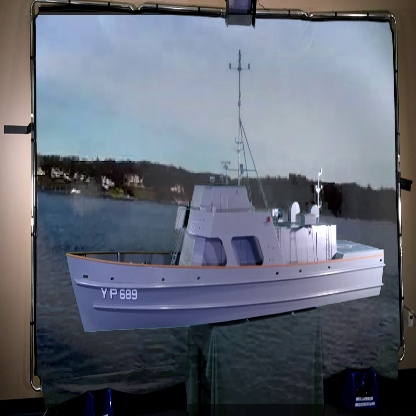YP689: (65, 48, 384, 336)
